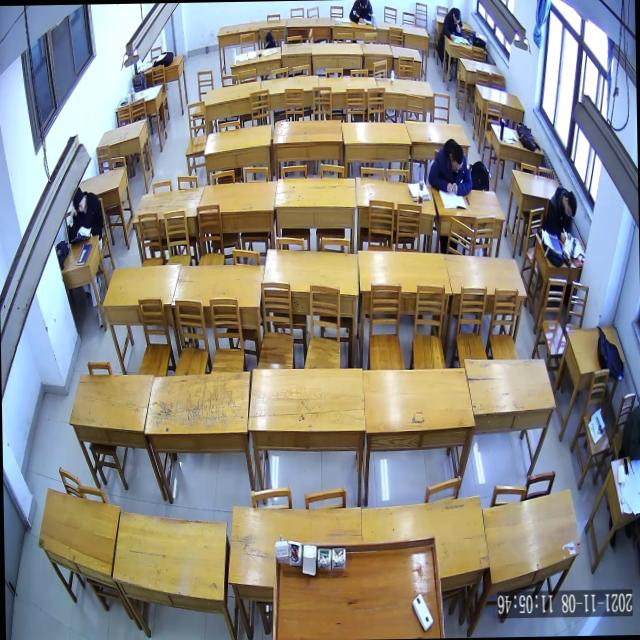down: (447, 142, 465, 174), (562, 188, 578, 220), (72, 187, 86, 214), (452, 7, 462, 26)
sit: (426, 134, 473, 198), (65, 183, 104, 244), (542, 186, 578, 244), (441, 4, 463, 42)
